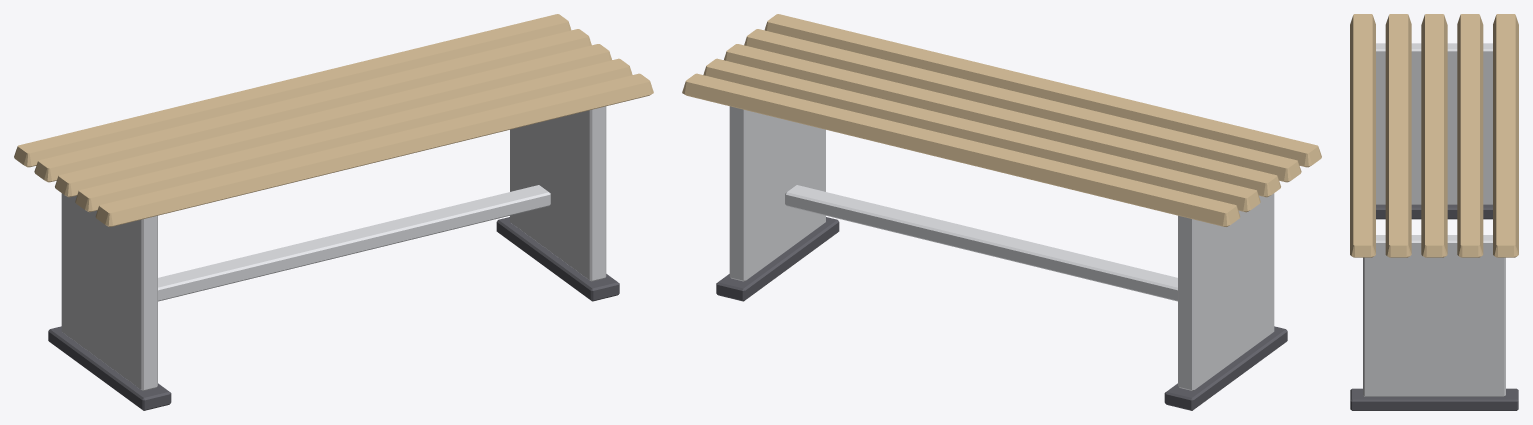
The model's file is dry-cleaners-and-alterations-shop-waiting-bench-727fb175__34943.glb.
3 views of the same model, side by side, from view 1: azimuth 30°, elevation 25°; view 2: azimuth 150°, elevation 25°; view 3: azimuth 270°, elevation 25° (orthographic). The views are drawn at different scales.
Visible parts, largest first — view 1: waiting-bench; view 2: waiting-bench; view 3: waiting-bench.
Boxes of the visible parts, <box> form: waiting-bench: <box>14,14,653,410</box>; waiting-bench: <box>682,14,1321,410</box>; waiting-bench: <box>1350,14,1518,410</box>.
Bounding box in the file's own units: 1.32 × 0.4721 × 0.4021.
